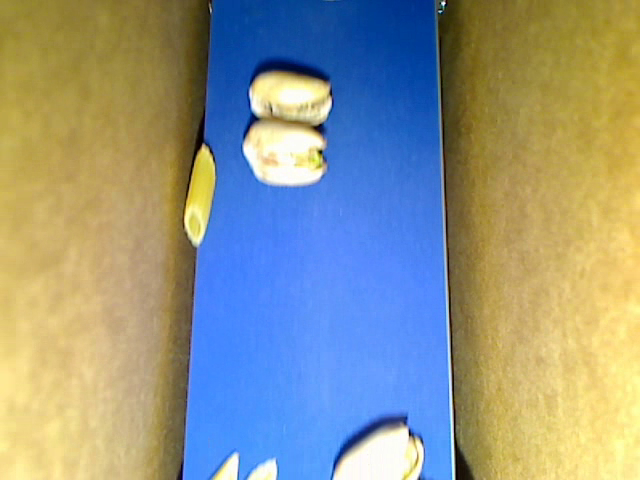penne: (183, 141, 216, 247)
